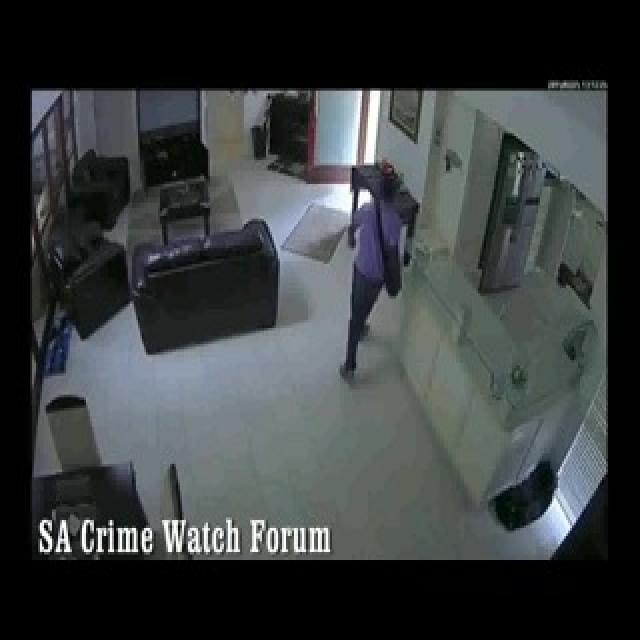thief: (343, 155, 405, 371)
